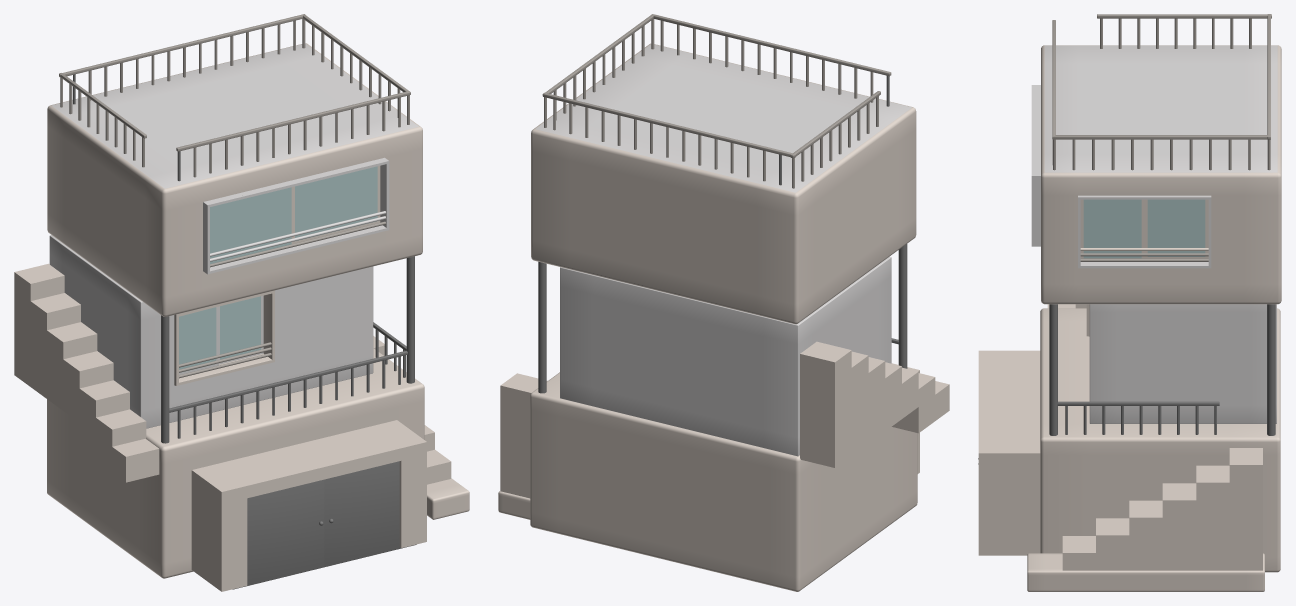
The model's file is house3.glb.
3 renders of one model, left to right at view 1: azimuth 30°, elevation 25°; view 2: azimuth 150°, elevation 25°; view 3: azimuth 270°, elevation 25°, orthographic. The views are drawn at different scales.
Visible parts, largest first — view 1: 빌라_1; view 2: 빌라_1; view 3: 빌라_1.
Part boxes in pixels (x1,y1,x2,y2): 빌라_1: (14, 14, 469, 591); 빌라_1: (498, 14, 949, 591); 빌라_1: (978, 14, 1281, 591).
Size of the model in its own units: 20.34 by 24.54 by 15.59.
